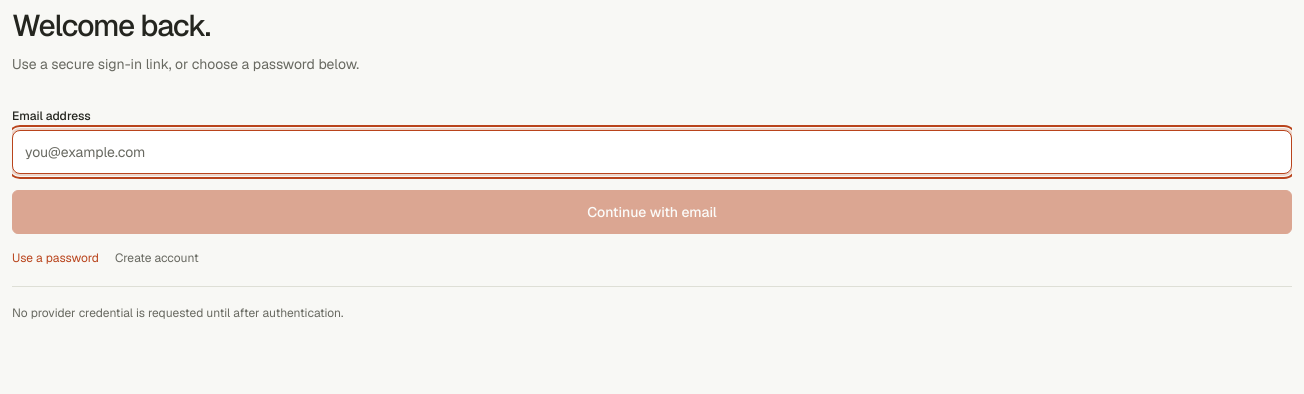
Scenario: keeps magic links available
Type "user@example.com" into the field labelled "Email address" at [652, 152], box [12,130,1292,174]
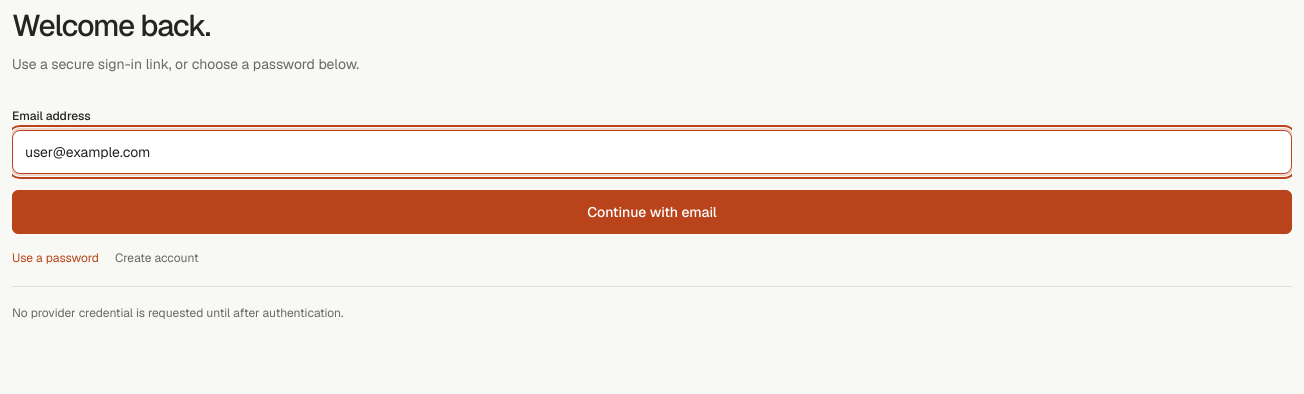
Click the button "Continue with email" at [652, 212], box [12,190,1292,234]
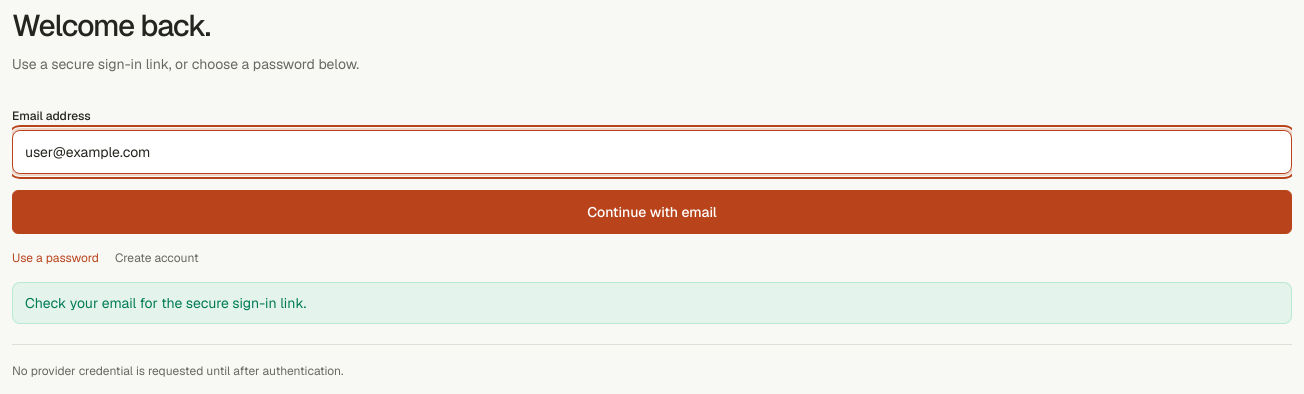
Now the text "Check your email for the secure sign-in link." is shown, box [12,282,1292,324]
